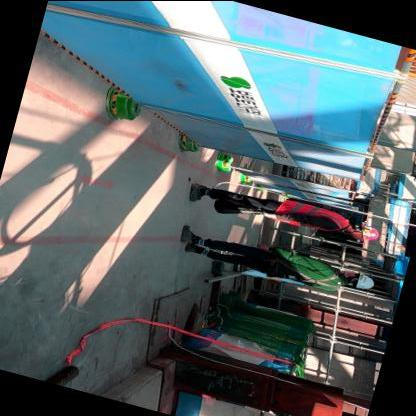safety-shoe: (180, 176, 216, 205), (170, 221, 202, 248)
